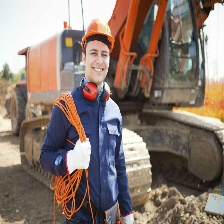helmet: (80, 20, 117, 54)
no-vest: (58, 75, 122, 192)
person: (57, 17, 131, 223)
